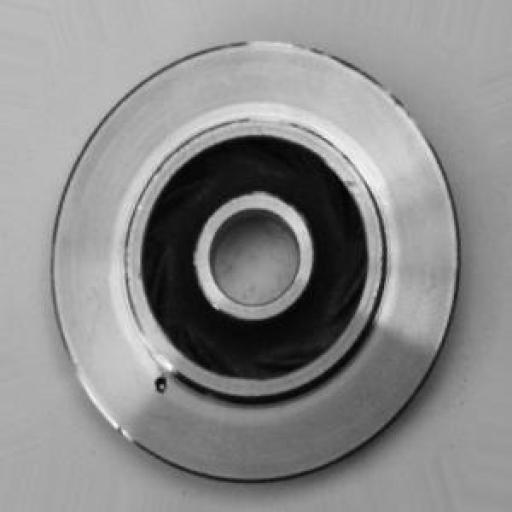defect: (122, 344, 192, 425)
